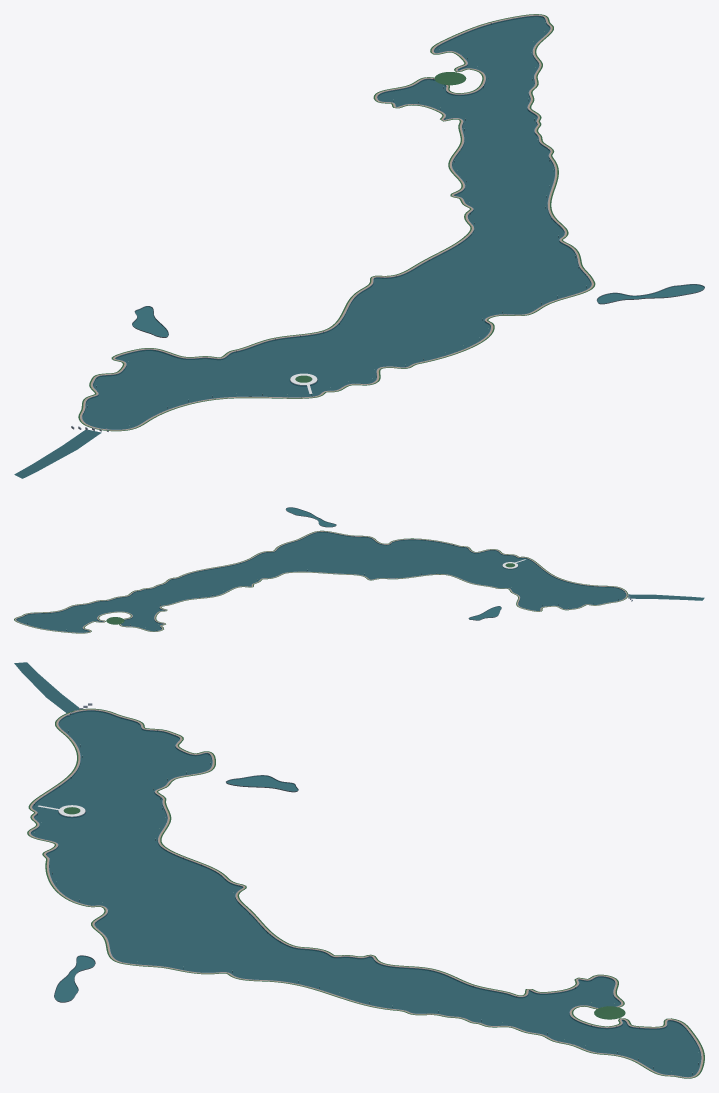
Rendered from ho_xuan_huong_true_shoreline_and_embankment_w1.glb.
3 views of the same model, one above another, from view 1: azimuth 30°, elevation 25°; view 2: azimuth 150°, elevation 25°; view 3: azimuth 270°, elevation 25° (orthographic). The views are drawn at different scales.
Parts seen in each view (by area): view 1: Water_HoXuanHuong_TrueOSM_1to1, Promenade_Walkway_HoXuanHuong, Lakeside_GreenVerge_HoXuanHuong, Embankment_GraniteCoping_HoXuanHuong, Embankment_StoneWall_HoXuanHuong, Water_suoi_cam_ly_spillway, Water_ho_lang_yersin; view 2: Water_HoXuanHuong_TrueOSM_1to1, Promenade_Walkway_HoXuanHuong, Lakeside_GreenVerge_HoXuanHuong, Embankment_StoneWall_HoXuanHuong, Embankment_GraniteCoping_HoXuanHuong, Water_suoi_cam_ly_spillway, Water_ho_lang_yersin; view 3: Water_HoXuanHuong_TrueOSM_1to1, Promenade_Walkway_HoXuanHuong, Lakeside_GreenVerge_HoXuanHuong, Embankment_GraniteCoping_HoXuanHuong, Embankment_StoneWall_HoXuanHuong, Water_suoi_cam_ly_spillway, Water_ho_lang_yersin.
Part boxes in pixels (left/top/right/bottom): Water_HoXuanHuong_TrueOSM_1to1: left=82, top=16, right=591, bottom=429; Promenade_Walkway_HoXuanHuong: left=80, top=14, right=593, bottom=430; Lakeside_GreenVerge_HoXuanHuong: left=78, top=14, right=595, bottom=431; Embankment_GraniteCoping_HoXuanHuong: left=81, top=15, right=591, bottom=429; Embankment_StoneWall_HoXuanHuong: left=82, top=15, right=591, bottom=415; Water_suoi_cam_ly_spillway: left=14, top=429, right=101, bottom=478; Water_ho_lang_yersin: left=597, top=284, right=704, bottom=303; Water_HoXuanHuong_TrueOSM_1to1: left=16, top=532, right=626, bottom=632; Promenade_Walkway_HoXuanHuong: left=15, top=531, right=627, bottom=633; Lakeside_GreenVerge_HoXuanHuong: left=14, top=530, right=628, bottom=633; Embankment_StoneWall_HoXuanHuong: left=16, top=531, right=625, bottom=631; Embankment_GraniteCoping_HoXuanHuong: left=16, top=531, right=626, bottom=632; Water_suoi_cam_ly_spillway: left=628, top=594, right=704, bottom=600; Water_ho_lang_yersin: left=286, top=507, right=336, bottom=526; Water_HoXuanHuong_TrueOSM_1to1: left=31, top=710, right=701, bottom=1077; Promenade_Walkway_HoXuanHuong: left=28, top=709, right=703, bottom=1077; Lakeside_GreenVerge_HoXuanHuong: left=27, top=708, right=704, bottom=1078; Embankment_GraniteCoping_HoXuanHuong: left=30, top=710, right=701, bottom=1077; Embankment_StoneWall_HoXuanHuong: left=31, top=710, right=701, bottom=1056; Water_suoi_cam_ly_spillway: left=14, top=662, right=78, bottom=713; Water_ho_lang_yersin: left=54, top=956, right=94, bottom=1002.
Size of the model in its own units: 1758 by 9.35 by 1226.
